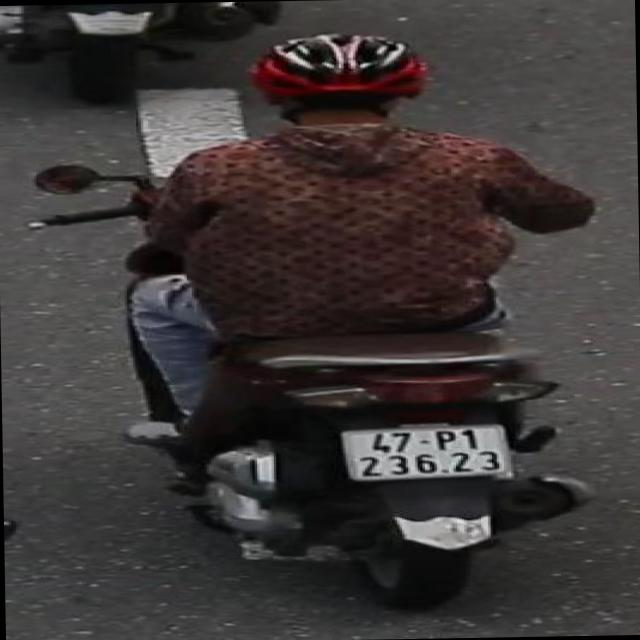LP: (328, 416, 521, 502)
helmet: (238, 25, 442, 130)
